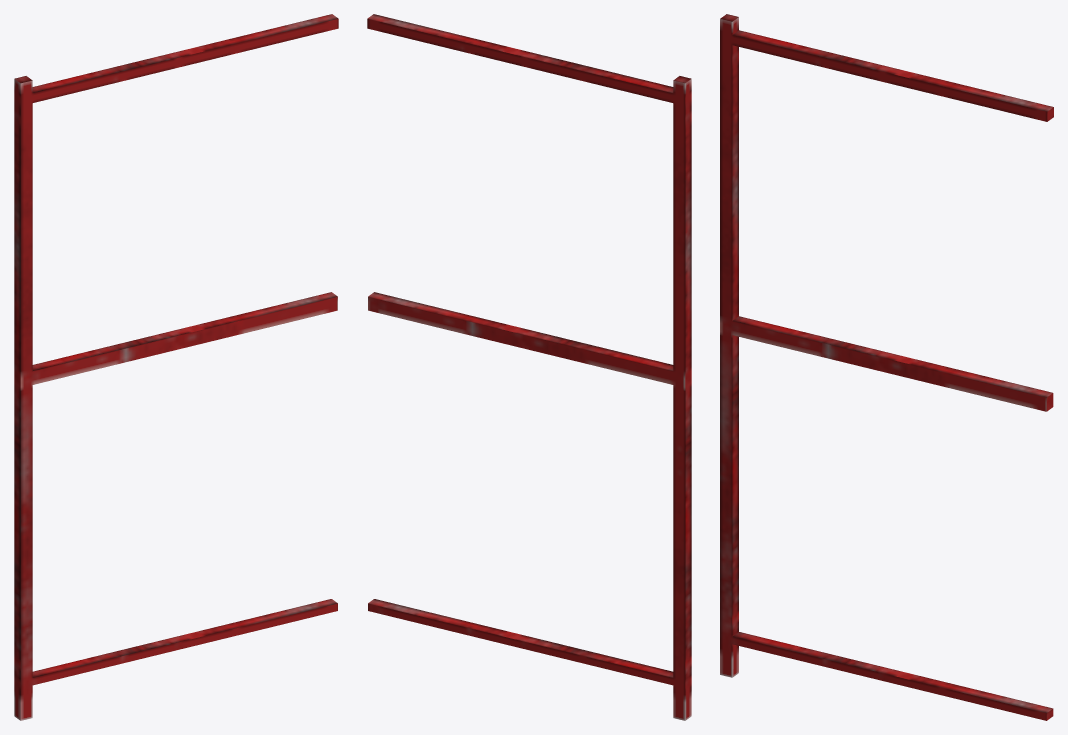
The model's file is Les_Part_01.FBX.
3 views of the same model, side by side, from view 1: azimuth 30°, elevation 25°; view 2: azimuth 150°, elevation 25°; view 3: azimuth 330°, elevation 25° (orthographic). The views are drawn at different scales.
Parts seen in each view (by area): view 1: Box006; view 2: Box006; view 3: Box006.
Boxes of the visible parts, <box> form: Box006: <box>14,14,338,720</box>; Box006: <box>367,14,691,720</box>; Box006: <box>720,14,1053,720</box>.
Bounding box in the file's own units: 180 × 346 × 6.31.
